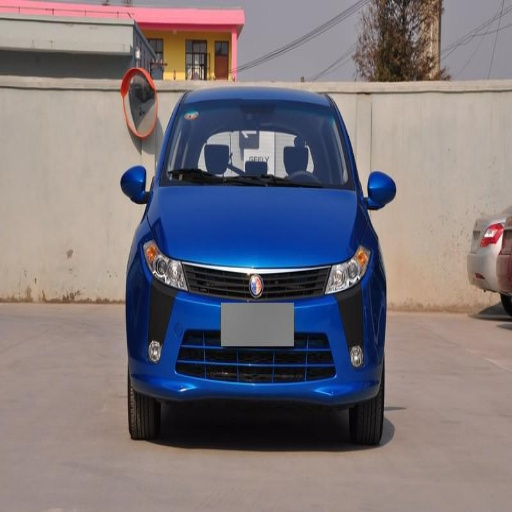front_bumper: (130, 261, 383, 406)
front_right_light: (144, 241, 187, 289)
hood: (153, 186, 356, 270)
